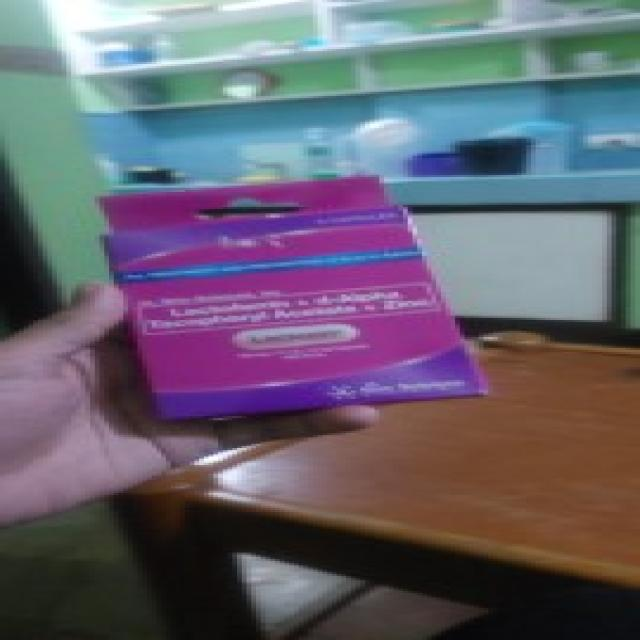Cacat: (152, 186, 403, 393)
